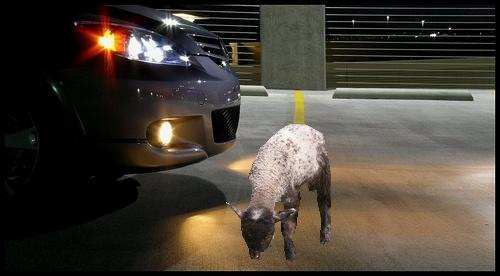tampered: (227, 125, 331, 262)
